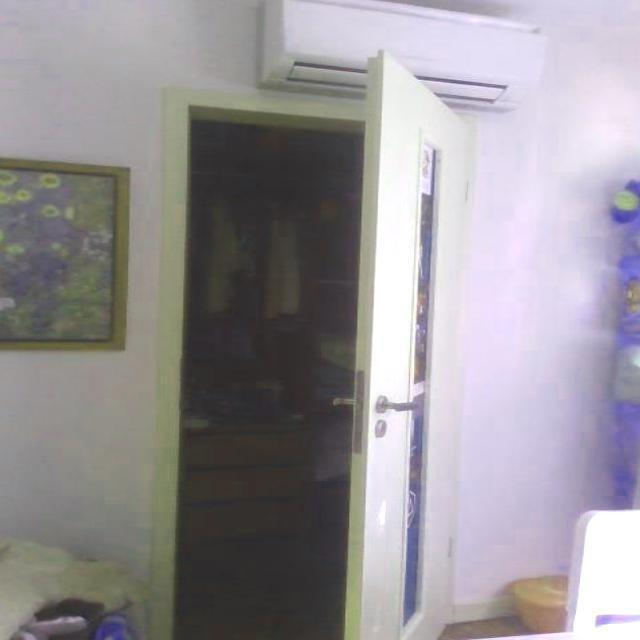door: (345, 48, 470, 638)
